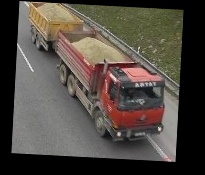truck: (21, 2, 171, 145)
